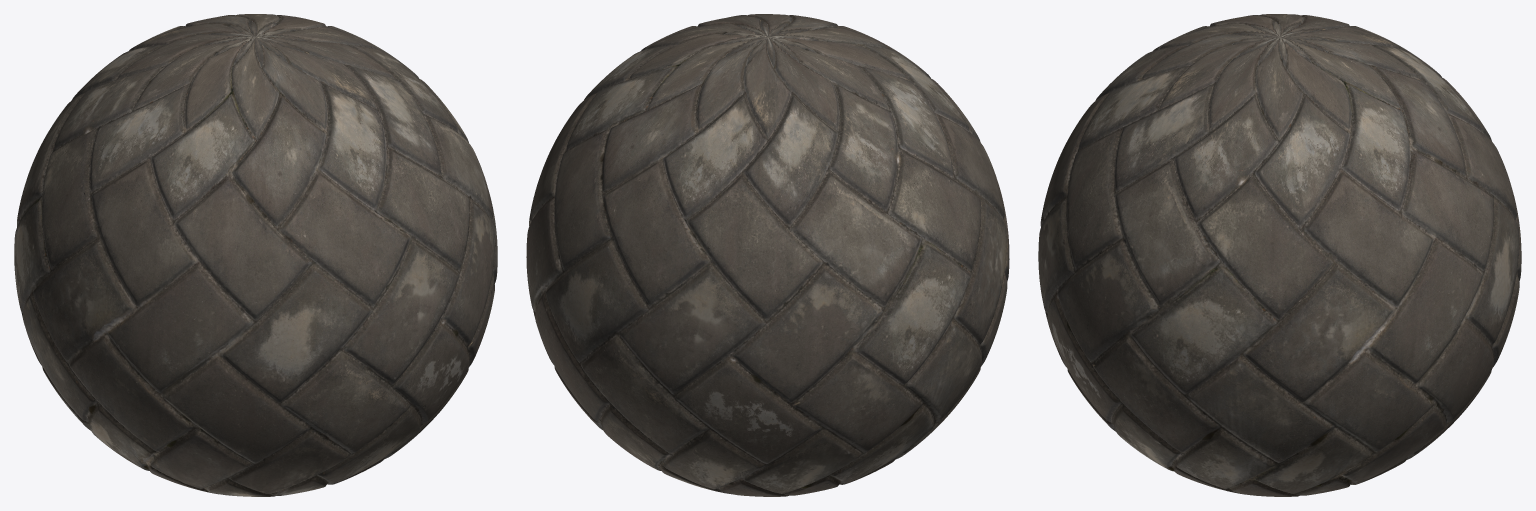
The model's file is herringbone_concrete_tile_03_2k.gltf.
3 renders of one model, left to right at view 1: azimuth 30°, elevation 25°; view 2: azimuth 150°, elevation 25°; view 3: azimuth 270°, elevation 25°, orthographic.
Visible parts, largest first — view 1: sphere_gltf; view 2: sphere_gltf; view 3: sphere_gltf.
Boxes of the visible parts, left/top/right/bottom form: sphere_gltf: left=14, top=14, right=497, bottom=496; sphere_gltf: left=526, top=14, right=1009, bottom=496; sphere_gltf: left=1038, top=14, right=1521, bottom=496.
Size of the model in its own units: 2.15 by 2.15 by 2.15.
Materials: 1 (1 with a texture image).
